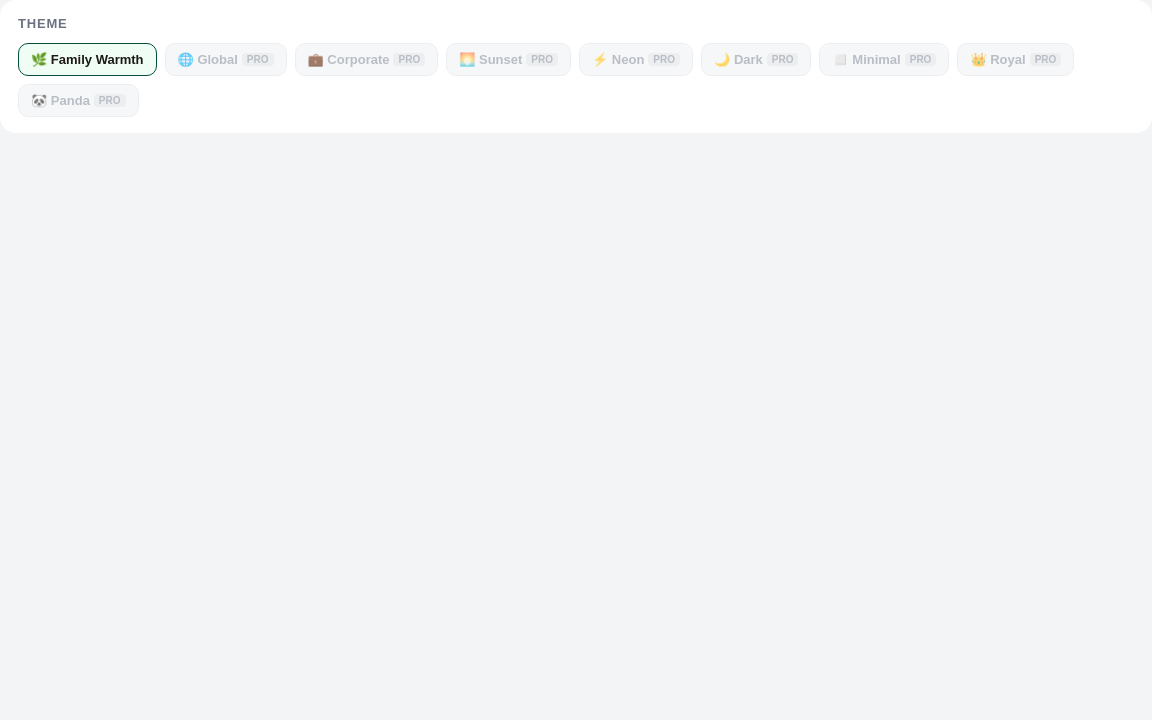
ThemeSection › pro themes are tappable (not disabled) but locked for free users → open the upgrade modal
The width and height of the screenshot is (1152, 720).
Click the button with test id "theme-global_international": {"x": 226, "y": 60} x1=164 y1=43 x2=286 y2=76
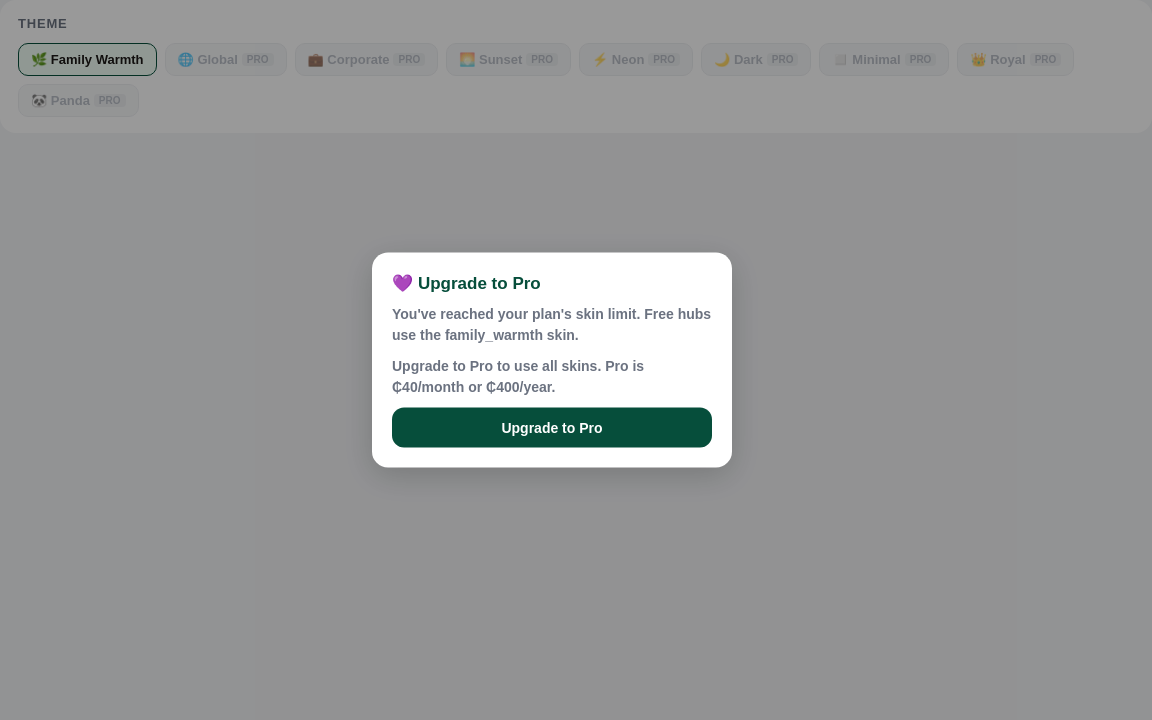
Result: the text "skin limit" is shown at x1=392 y1=306 x2=711 y2=342
